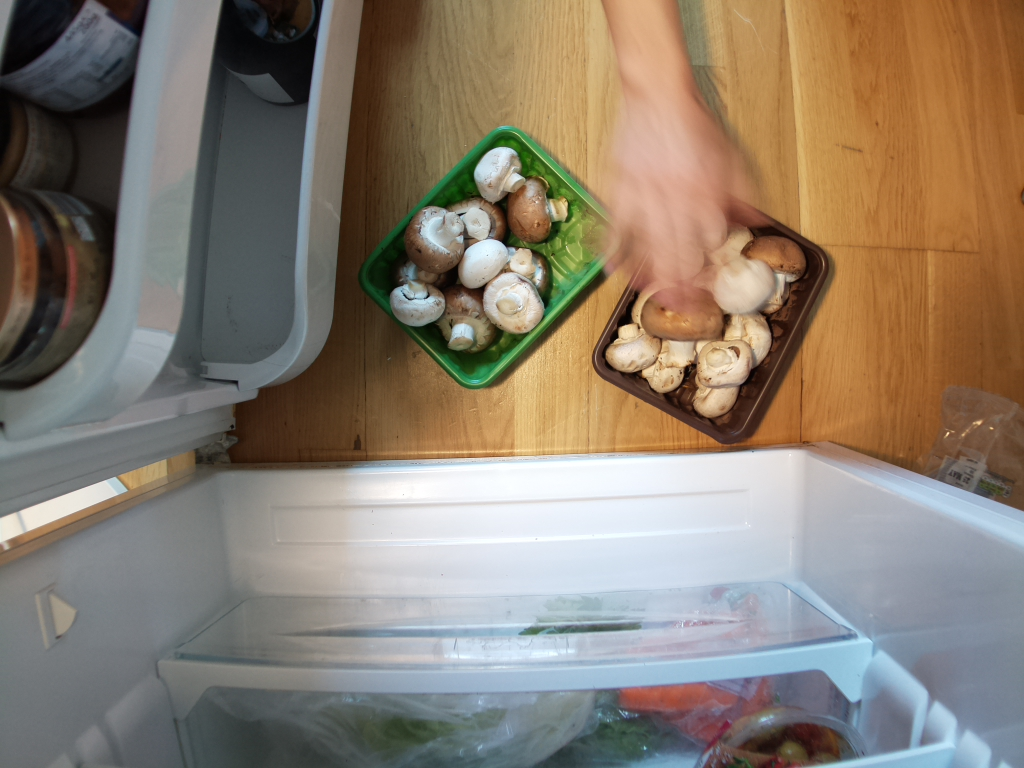mushrooms: (362, 139, 606, 390), (590, 188, 825, 444)
